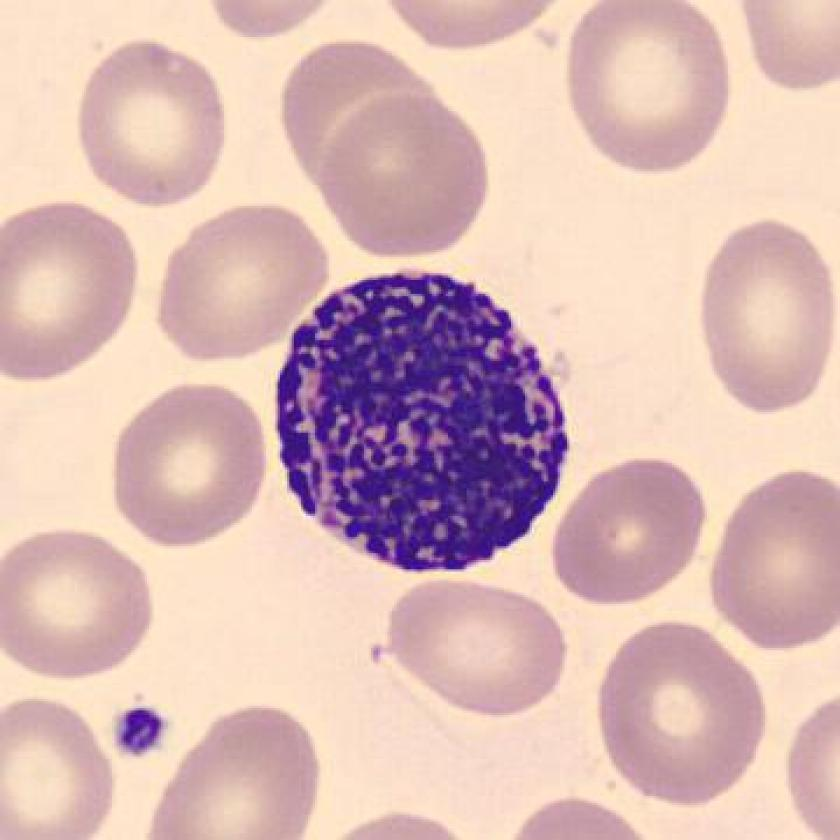basophil: (276, 265, 573, 577)
